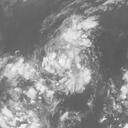cyclone: (40, 41, 91, 94)
